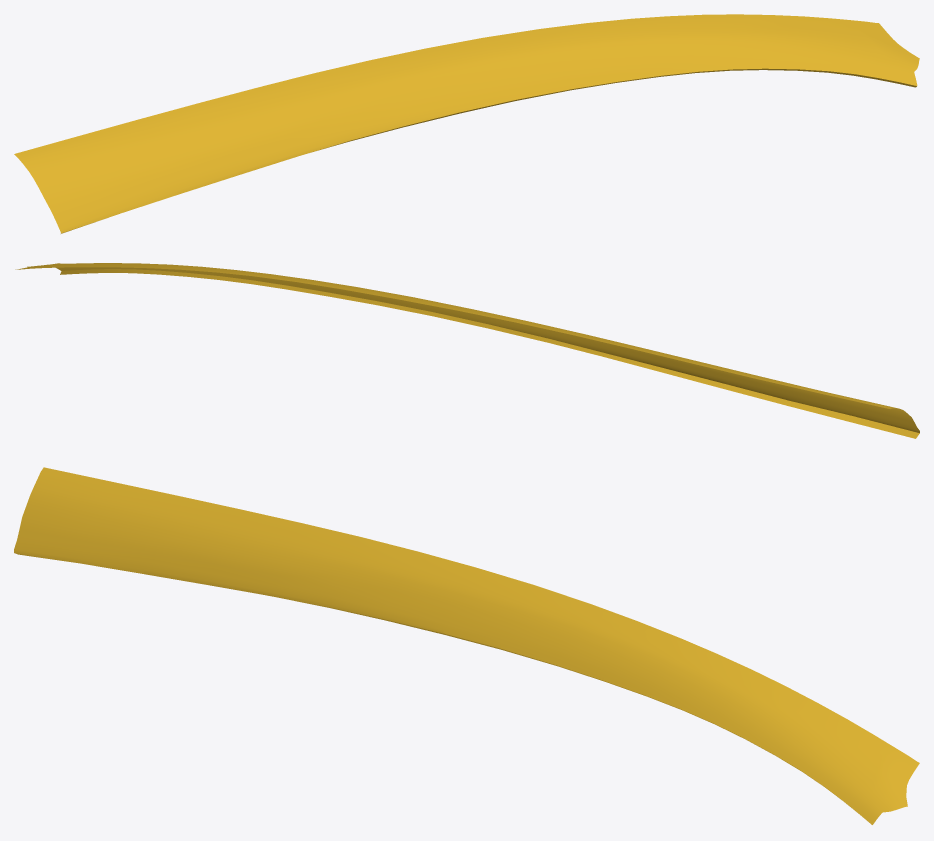
The picture shows the model from 3 angles, top to bottom: view 1: azimuth 30°, elevation 25°; view 2: azimuth 150°, elevation 25°; view 3: azimuth 330°, elevation 25°; orthographic projection. The views are drawn at different scales.
Visible parts, largest first — view 1: P353_20_18A5_R_1_DaS_P353_20_18A5_R, P353_20_18A5_R_1_DaS_P353_20_18A5_R_E; view 2: P353_20_18A5_R_1_DaS_P353_20_18A5_R, P353_20_18A5_R_1_DaS_P353_20_18A5_R_E; view 3: P353_20_18A5_R_1_DaS_P353_20_18A5_R, P353_20_18A5_R_1_DaS_P353_20_18A5_R_E.
Part boxes in pixels (box(x1,y1,x2,y2)): P353_20_18A5_R_1_DaS_P353_20_18A5_R: box(14, 14, 919, 233); P353_20_18A5_R_1_DaS_P353_20_18A5_R_E: box(61, 68, 916, 233); P353_20_18A5_R_1_DaS_P353_20_18A5_R: box(15, 263, 919, 432); P353_20_18A5_R_1_DaS_P353_20_18A5_R_E: box(60, 269, 919, 438); P353_20_18A5_R_1_DaS_P353_20_18A5_R: box(14, 467, 919, 824); P353_20_18A5_R_1_DaS_P353_20_18A5_R_E: box(14, 553, 860, 815).
Size of the model in its own units: 116 by 14.19 by 11.97.
